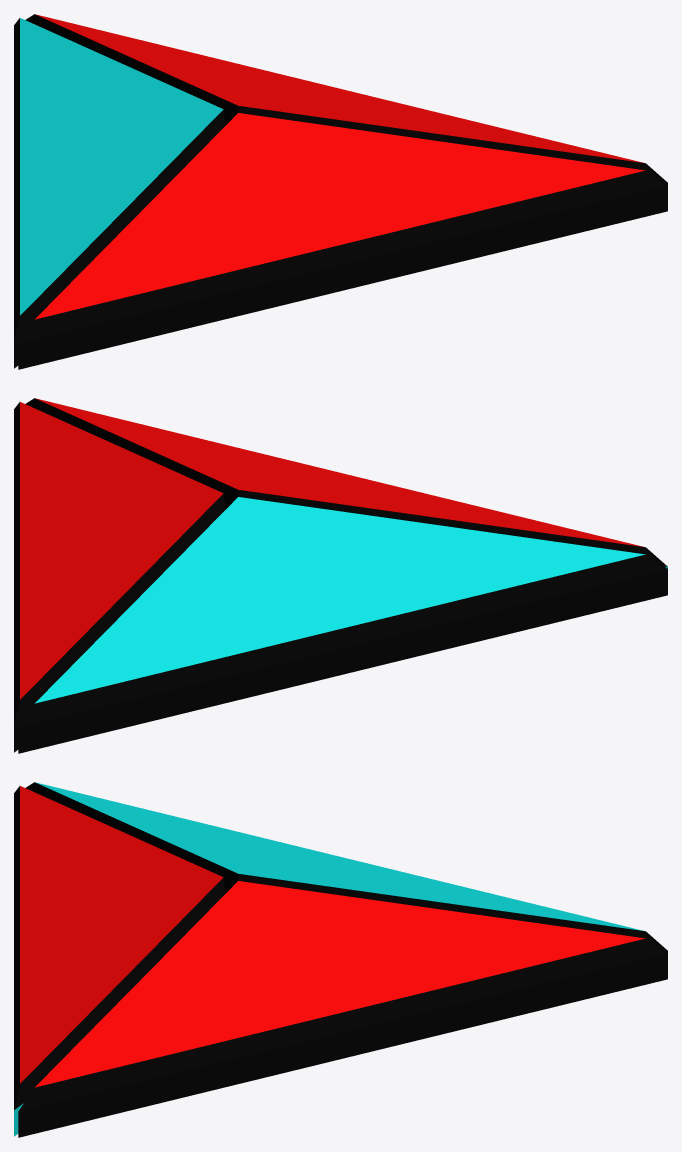
3 views of the same model, one above another, from view 1: azimuth 30°, elevation 25°; view 2: azimuth 150°, elevation 25°; view 3: azimuth 270°, elevation 25° (orthographic).
Visible parts, largest first — view 1: Circle; view 2: Circle; view 3: Circle.
Part boxes in pixels (x1,y1,x2,y2): Circle: (14,14,667,369); Circle: (14,398,667,753); Circle: (14,782,667,1137).
Bounding box in the file's own units: 142 × 20.99 × 123.
